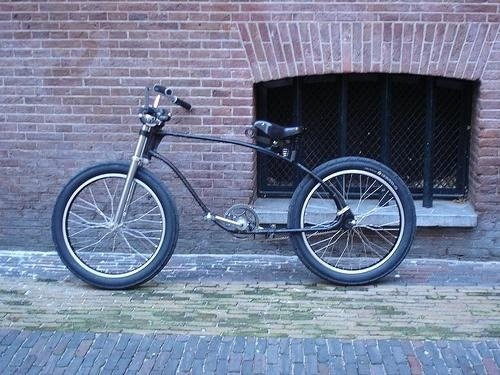bicycle: (49, 82, 421, 290)
